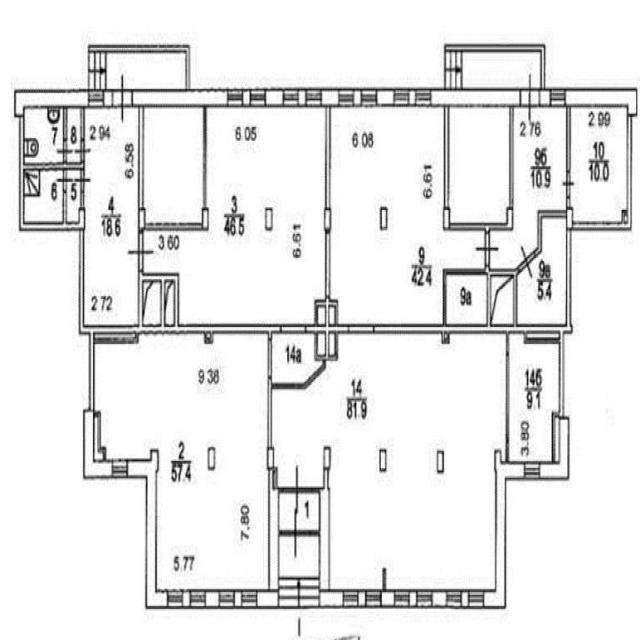Bathrooms: (25, 109, 62, 162), (25, 173, 61, 220)
Corridors: (490, 112, 564, 270), (85, 110, 137, 324), (450, 108, 507, 222), (145, 108, 202, 221), (273, 334, 322, 381), (279, 493, 319, 530), (68, 110, 80, 162), (67, 172, 79, 221)
Doors: (279, 463, 319, 515), (279, 507, 318, 559), (127, 233, 155, 272), (113, 72, 132, 124), (515, 242, 540, 281), (520, 72, 539, 122), (475, 232, 499, 265), (74, 170, 91, 194), (560, 170, 575, 197), (56, 171, 74, 193), (56, 139, 73, 162), (74, 139, 91, 162), (325, 232, 330, 296), (349, 323, 374, 334), (282, 325, 306, 333), (268, 341, 272, 376)
LBwalls: (485, 461, 524, 609), (129, 458, 166, 609), (319, 488, 342, 609), (258, 489, 279, 610), (14, 88, 87, 118), (82, 410, 112, 479), (567, 88, 638, 116), (540, 417, 570, 481), (132, 88, 226, 107), (432, 88, 520, 107), (377, 88, 394, 105), (322, 442, 332, 470), (266, 91, 282, 108), (322, 89, 337, 106), (378, 449, 389, 472), (323, 207, 332, 234), (206, 591, 218, 608), (434, 591, 446, 608), (201, 207, 209, 232), (138, 207, 146, 231), (539, 88, 550, 105), (382, 591, 393, 608), (265, 208, 273, 231), (443, 208, 451, 231), (267, 446, 274, 470), (437, 451, 444, 474), (104, 89, 112, 108), (209, 448, 215, 471), (381, 207, 387, 229), (494, 448, 502, 461), (243, 89, 249, 106), (410, 89, 416, 106), (354, 90, 360, 107), (299, 90, 305, 107), (359, 590, 365, 607), (410, 590, 416, 607), (462, 591, 468, 608), (235, 591, 241, 608), (183, 591, 189, 608)
Offices: (273, 334, 505, 588), (95, 334, 268, 588), (145, 108, 325, 323), (331, 108, 483, 322), (572, 109, 626, 219), (512, 336, 558, 461), (519, 220, 565, 322)
Stairs: (88, 51, 187, 89), (444, 53, 540, 86), (279, 537, 319, 609)
Walls: (375, 117, 632, 461), (78, 232, 281, 410), (268, 295, 349, 489), (443, 108, 514, 232), (138, 108, 208, 232), (18, 119, 86, 233), (443, 43, 546, 88), (325, 107, 331, 232), (24, 163, 86, 171), (566, 107, 571, 169), (63, 109, 68, 139), (80, 109, 85, 139), (382, 565, 387, 588), (324, 469, 329, 488)
Windows: (87, 90, 104, 108), (249, 89, 266, 106), (305, 89, 322, 106), (360, 90, 377, 107), (338, 90, 354, 108), (167, 590, 183, 607), (190, 591, 206, 608), (219, 591, 235, 608), (241, 591, 257, 608), (343, 590, 359, 607), (366, 591, 382, 608), (394, 590, 410, 607), (417, 590, 433, 607), (446, 591, 462, 608), (468, 591, 484, 608), (524, 462, 540, 479), (112, 460, 128, 477), (227, 89, 243, 106), (283, 90, 299, 107), (394, 89, 410, 106), (415, 89, 431, 106), (550, 88, 566, 105)
